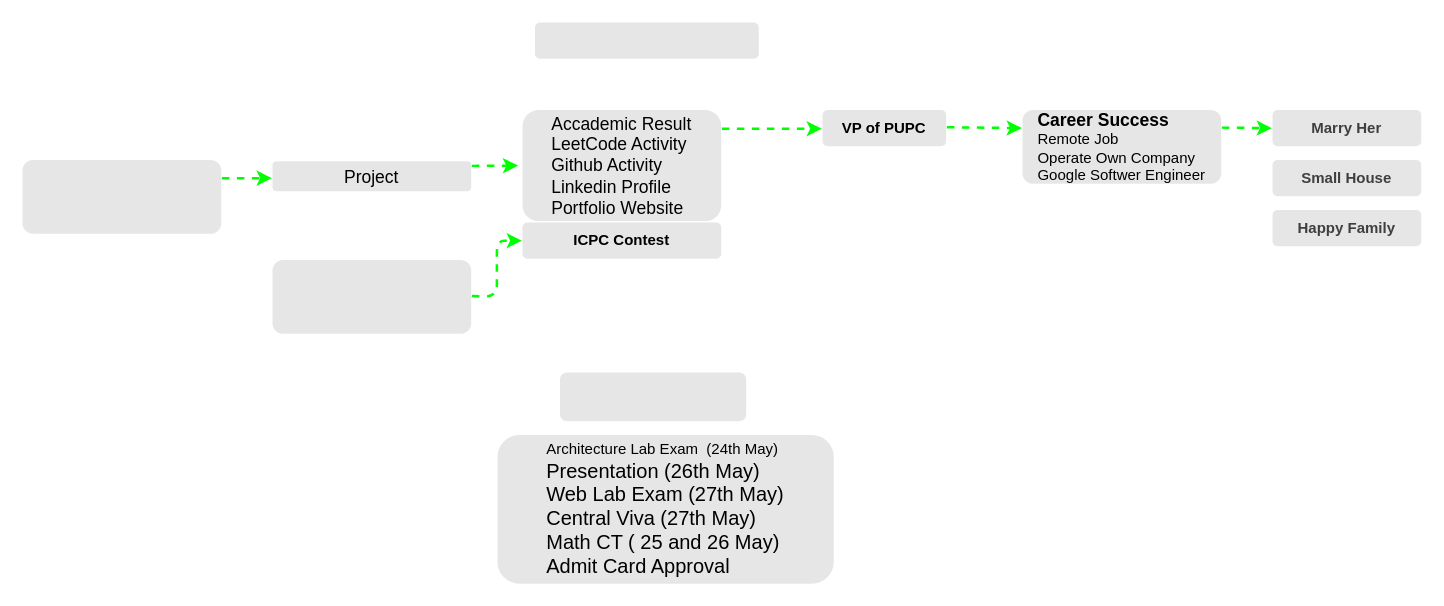
Some shapes in this 1444 by 606 pixel diagram are drawn without their labels. Here are the shapes that lost their labels. From the top down, the centre of each, then its label:
At pixel 646 40: "Long Term".
At pixel 121 196: "HTML CSS JavaScript".
At pixel 371 296: "Language Data Structure Problem Solving".
At pixel 652 396: "Short Term".
